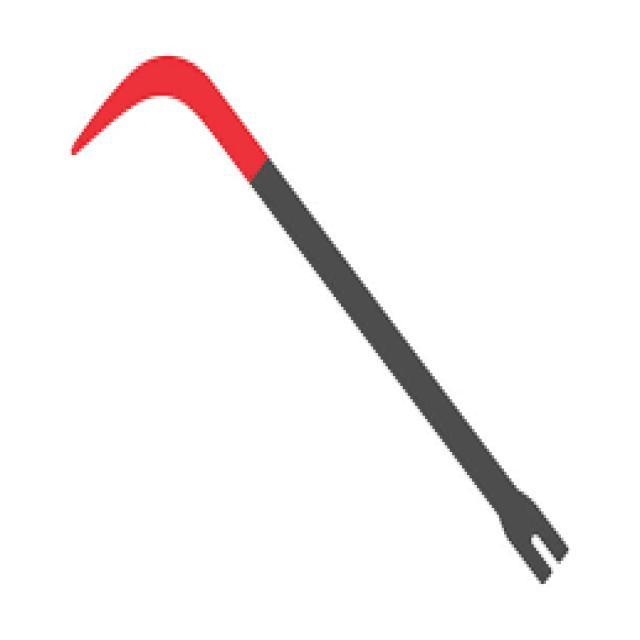Linggis: (54, 39, 581, 596)
